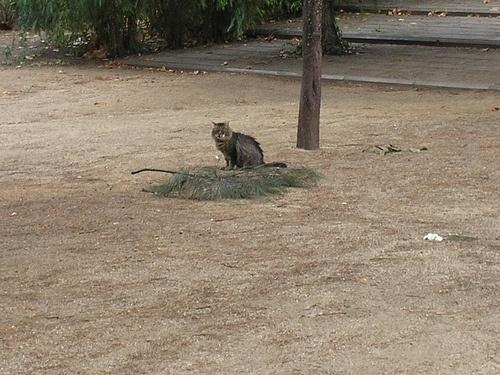cat: (210, 121, 289, 174)
